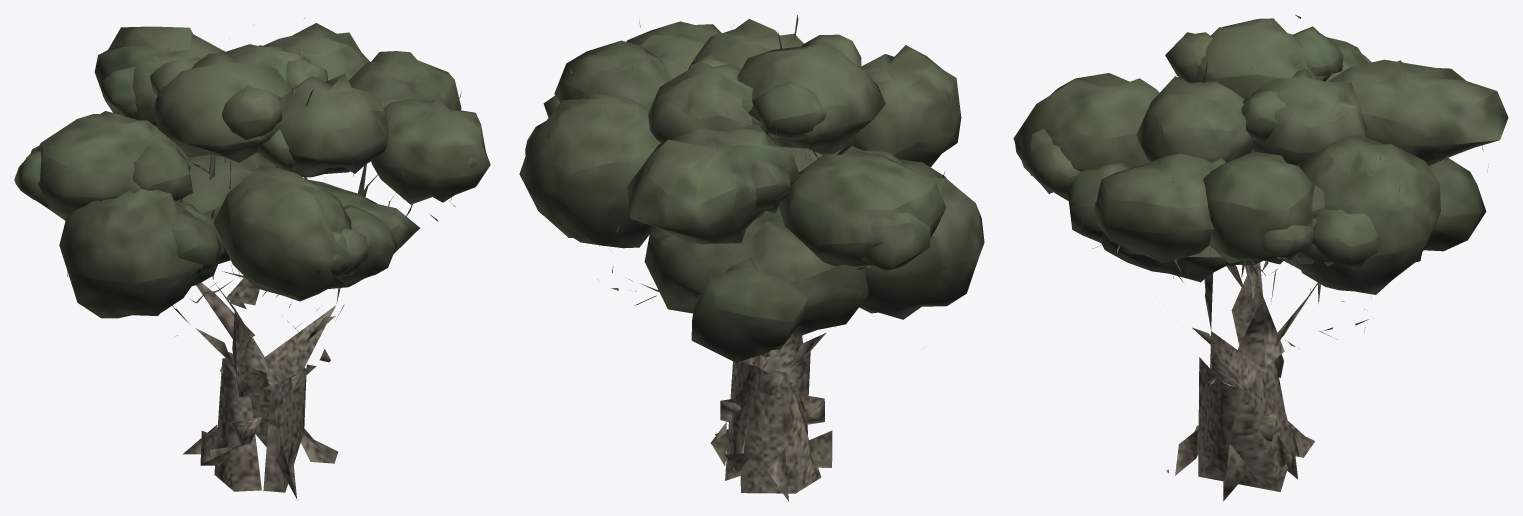
File: a34_olive_a.glb
3 views of the same model, side by side, from view 1: azimuth 30°, elevation 25°; view 2: azimuth 150°, elevation 25°; view 3: azimuth 270°, elevation 25° (orthographic). The views are drawn at different scales.
Parts seen in each view (by area): view 1: body; view 2: body; view 3: body.
Part boxes in pixels (box(x1,y1,x2,y2)): body: box(14, 17, 490, 499); body: box(519, 15, 984, 501); body: box(1013, 14, 1508, 501).
Bounding box in the file's own units: 0.947 × 0.9652 × 1.
1 material, 1 textured.
